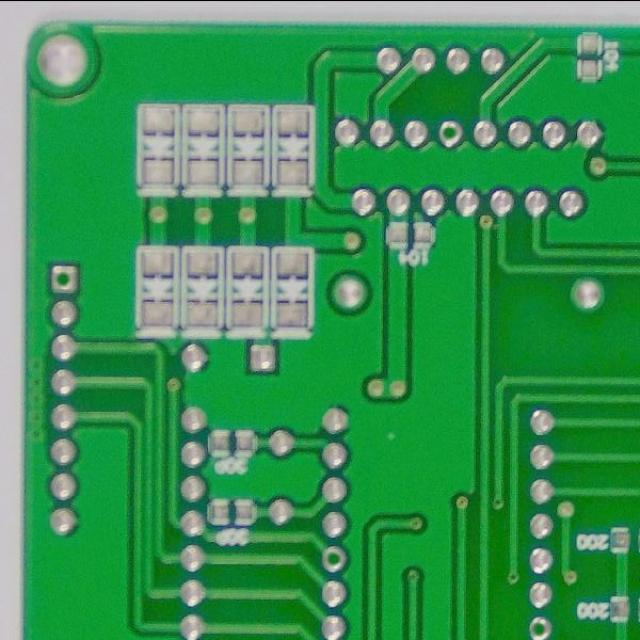Missing_Hole: (46, 262, 81, 296), (434, 118, 467, 150), (318, 544, 351, 575), (525, 614, 556, 640)
